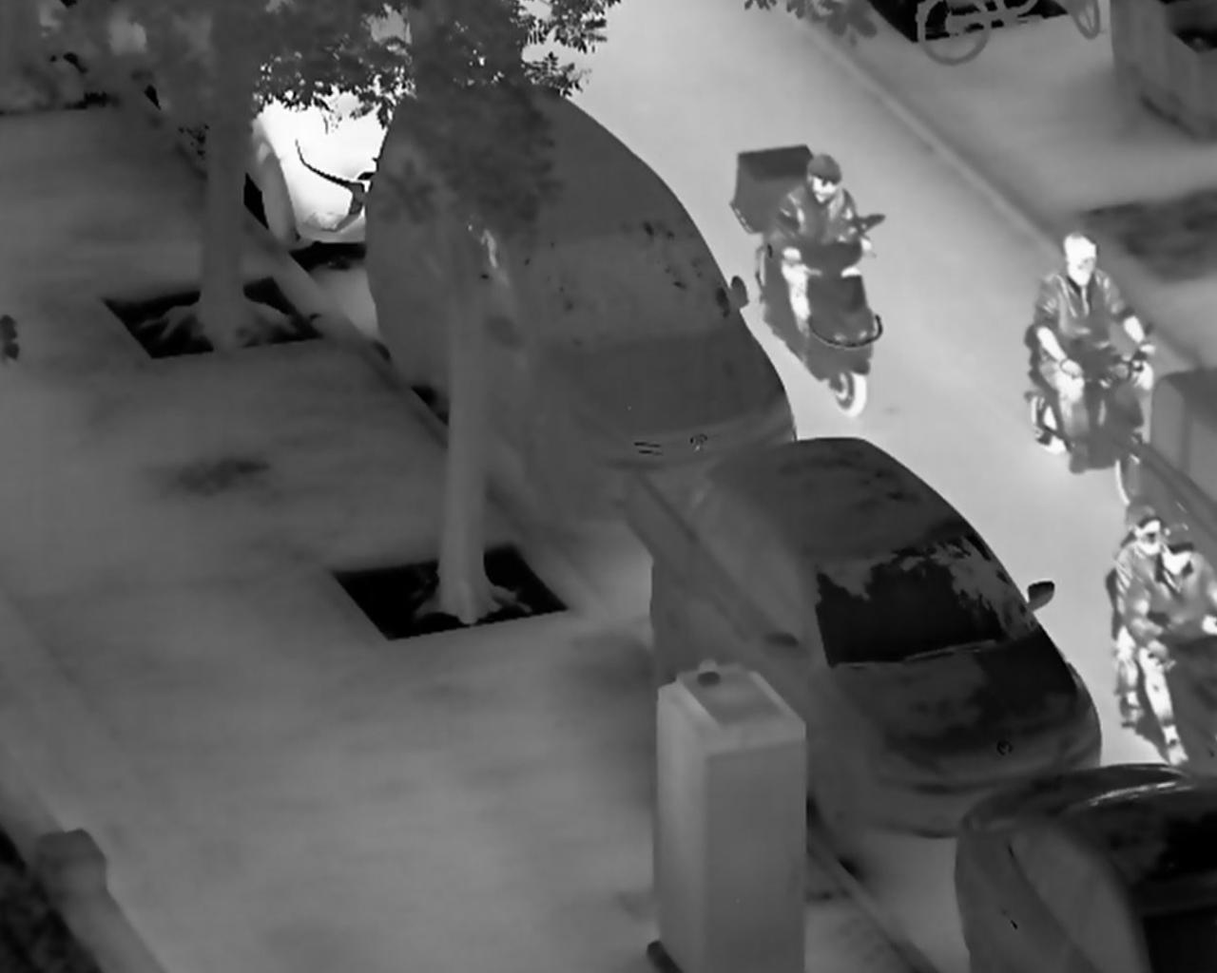person: (1033, 233, 1158, 450), (1120, 522, 1217, 768), (770, 153, 876, 348)
